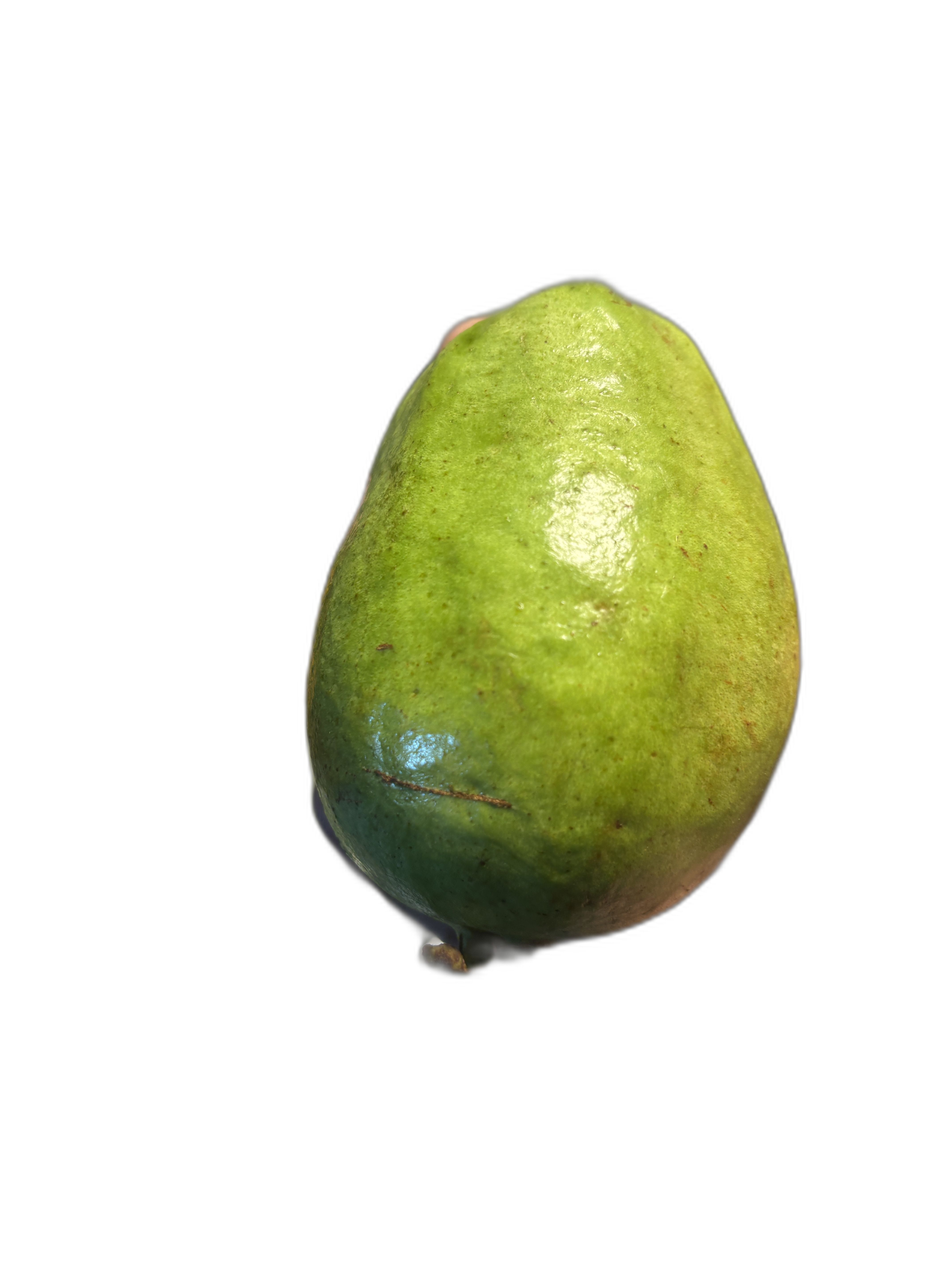guava: (140, 136, 815, 1211)
